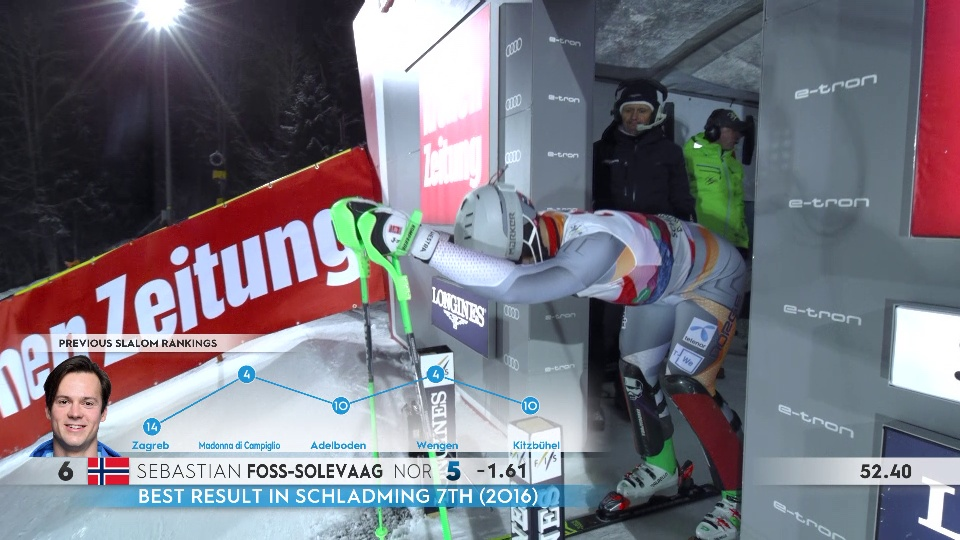audi: (504, 38, 528, 62), (504, 93, 526, 119)
etron: (776, 404, 859, 440), (787, 73, 891, 101), (781, 305, 865, 327), (783, 193, 879, 212), (549, 33, 588, 52), (545, 91, 585, 108), (543, 360, 580, 378), (547, 148, 583, 163)
kronenzeitung: (20, 158, 364, 424), (417, 104, 485, 201)
longines: (504, 430, 560, 532), (422, 363, 458, 497), (433, 293, 490, 341)
